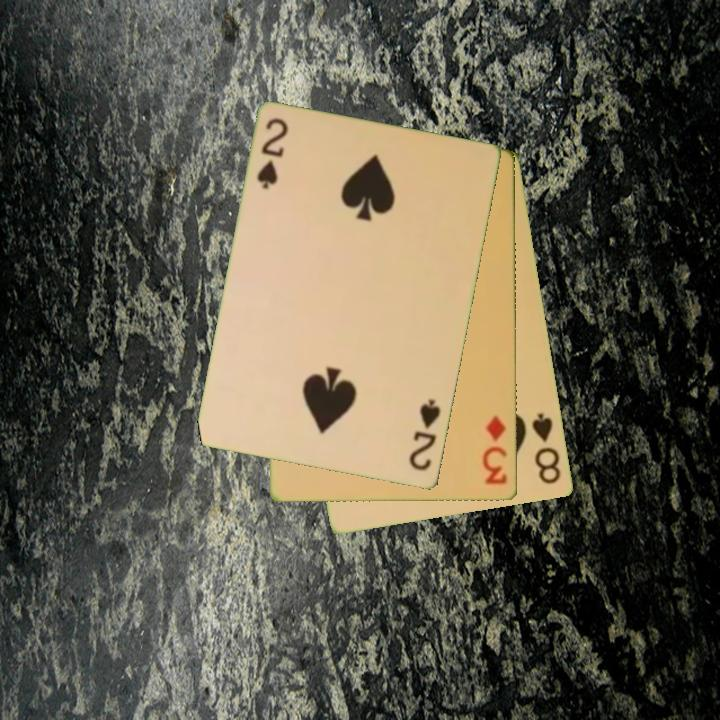2s: (406, 396, 444, 474), (254, 115, 291, 193)
3d: (480, 412, 511, 487)
8s: (529, 410, 564, 488)
